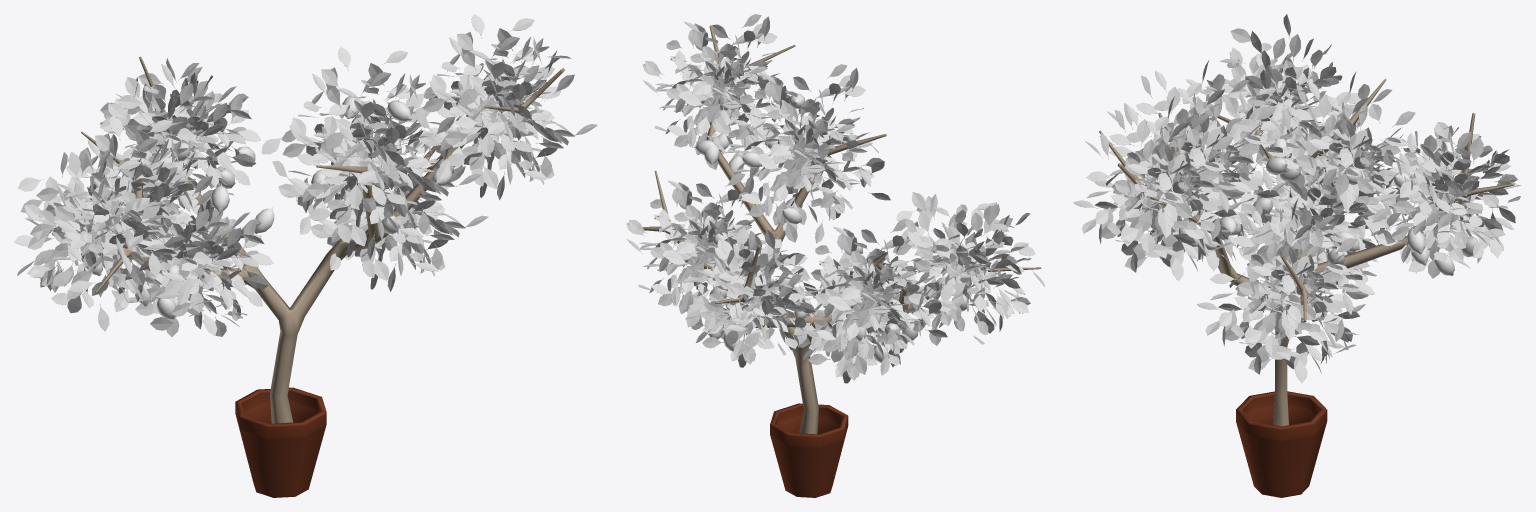
The model's file is pianta_limone_2.fbx.
3 renders of one model, left to right at view 1: azimuth 30°, elevation 25°; view 2: azimuth 150°, elevation 25°; view 3: azimuth 270°, elevation 25°, orthographic. The views are drawn at different scales.
Visible parts, largest first — view 1: Foglie, vaso, tronco_e_rami, Limoni; view 2: Foglie, vaso, tronco_e_rami, Limoni; view 3: Foglie, vaso, tronco_e_rami, Limoni.
Part boxes in pixels (left/top/right/bottom): Foglie: left=14, top=14, right=597, bottom=336; vaso: left=235, top=387, right=326, bottom=497; tronco_e_rami: left=76, top=56, right=564, bottom=423; Limoni: left=83, top=93, right=491, bottom=319; Foglie: left=626, top=14, right=1044, bottom=383; vaso: left=770, top=403, right=848, bottom=497; tronco_e_rami: left=642, top=25, right=1041, bottom=434; Limoni: left=693, top=85, right=969, bottom=362; Foglie: left=1073, top=14, right=1521, bottom=383; vaso: left=1236, top=391, right=1327, bottom=497; tronco_e_rami: left=1099, top=78, right=1514, bottom=426; Limoni: left=1168, top=128, right=1478, bottom=282.
Bounding box in the file's own units: 198 × 176 × 160.
